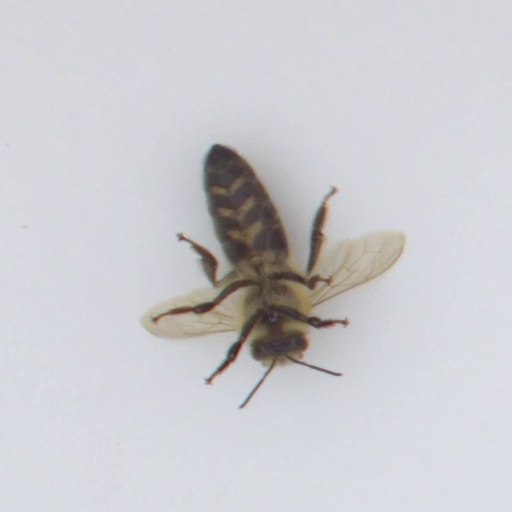Bee: (190, 132, 328, 376)
